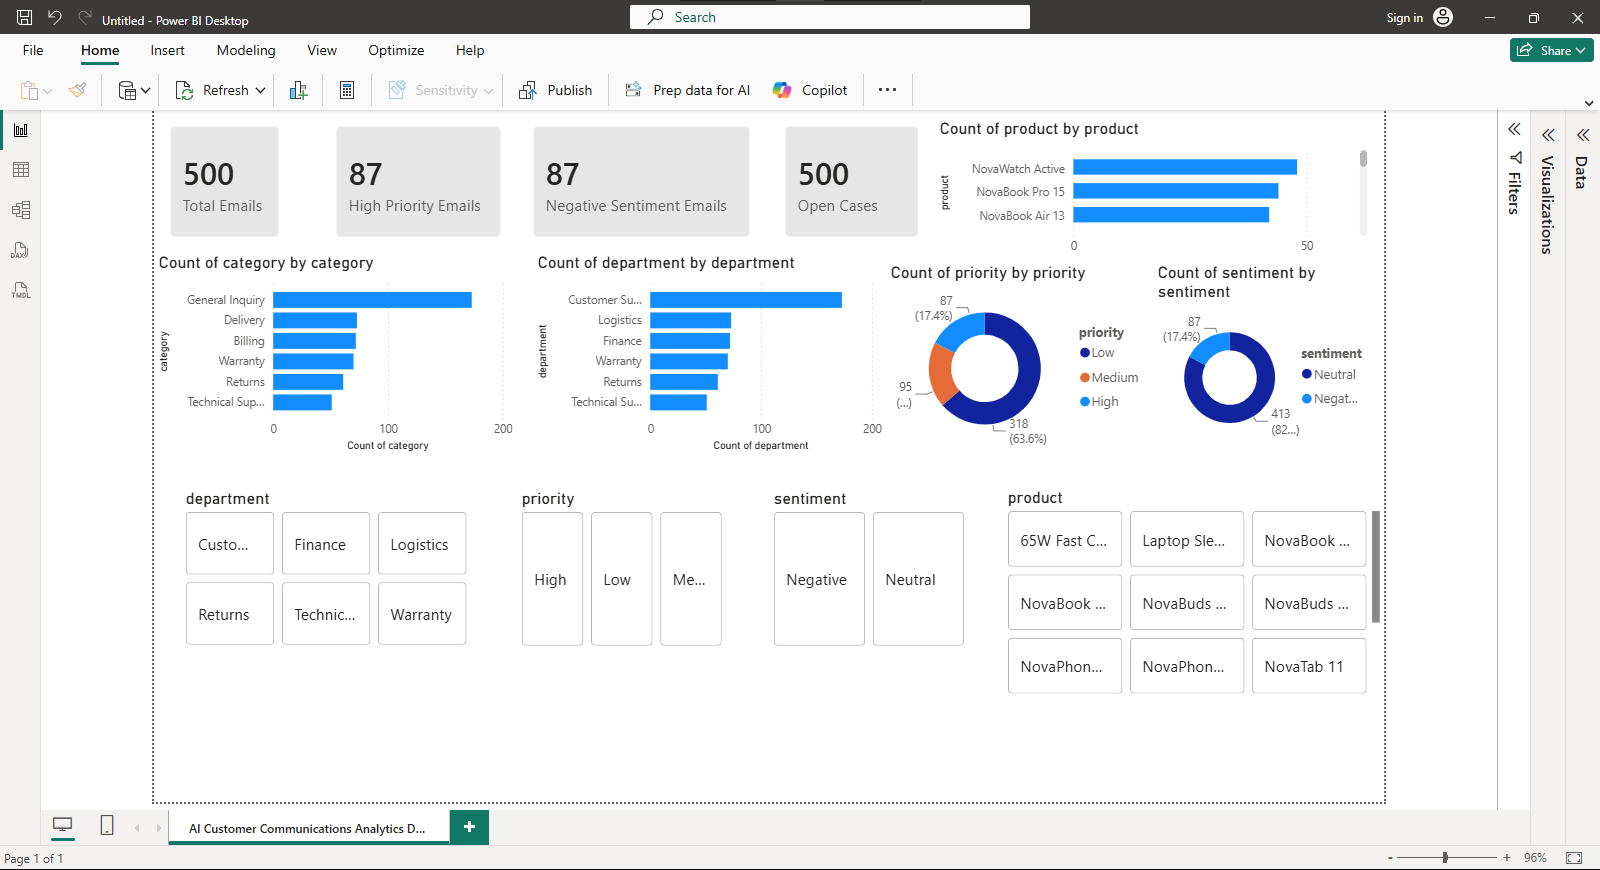

The dashboard page shown, as its layout file describes it:
{"tool":"powerbi","page":{"name":"AI Customer Communications Analytics Dashboard","canvas":[1280,720],"ordinal":0},"visuals":[{"type":"cardVisual","fields":{"Data":["customer_emails.Negative Sentiment Emails"]},"box":[377.8,0,259.6,149.1],"z":0},{"type":"cardVisual","fields":{"Data":["customer_emails.Total Emails"]},"box":[0,0,147.8,149.1],"z":1000},{"type":"cardVisual","fields":{"Data":["customer_emails.High Priority Emails"]},"box":[172.2,0,205.6,149.1],"z":2000},{"type":"cardVisual","fields":{"Data":["customer_emails.Open Cases"]},"box":[640,0,172.2,149.1],"z":3000},{"type":"clusteredBarChart","fields":{"Category":["customer_emails.department"],"Y":["CountNonNull(customer_emails.department)"]},"box":[394.5,149.1,367.6,210.8],"z":4000},{"type":"clusteredBarChart","fields":{"Category":["customer_emails.category"],"Y":["CountNonNull(customer_emails.category)"]},"box":[0,149.1,377.8,210.8],"z":5000},{"type":"clusteredBarChart","fields":{"Category":["customer_emails.product"],"Y":["CountNonNull(customer_emails.product)"]},"box":[812.2,9,454.9,150.4],"z":6000},{"type":"donutChart","fields":{"Category":["customer_emails.priority"],"Y":["CountNonNull(customer_emails.priority)"]},"box":[762.1,159.4,277.6,200.5],"z":7000},{"type":"donutChart","fields":{"Category":["customer_emails.sentiment"],"Y":["CountNonNull(customer_emails.sentiment)"]},"box":[1039.7,159.4,240.3,200.5],"z":8000},{"type":"advancedSlicerVisual","fields":{"Values":["customer_emails.department"]},"box":[28.3,394.5,304.6,168.4],"z":9000},{"type":"advancedSlicerVisual","fields":{"Values":["customer_emails.priority"]},"box":[377.8,394.5,218.5,168.4],"z":10000},{"type":"advancedSlicerVisual","fields":{"Values":["customer_emails.sentiment"]},"box":[640,394.5,209.5,168.4],"z":11000},{"type":"advancedSlicerVisual","fields":{"Values":["customer_emails.product"]},"box":[882.9,393.3,397.1,221],"z":12000}]}

Visuals, with their boxes on the page's 1280x720 design canvas (x1, y1, x2, y2). These are canvas units, not pixel positions in the 1600x870 screenshot, which may show the page scaled, cropped or inside an application window:
cardVisual - customer_emails.Negative Sentiment Emails: region(378, 0, 637, 149)
cardVisual - customer_emails.Total Emails: region(0, 0, 148, 149)
cardVisual - customer_emails.High Priority Emails: region(172, 0, 378, 149)
cardVisual - customer_emails.Open Cases: region(640, 0, 812, 149)
clusteredBarChart - customer_emails.department x CountNonNull(customer_emails.department): region(394, 149, 762, 360)
clusteredBarChart - customer_emails.category x CountNonNull(customer_emails.category): region(0, 149, 378, 360)
clusteredBarChart - customer_emails.product x CountNonNull(customer_emails.product): region(812, 9, 1267, 159)
donutChart - customer_emails.priority x CountNonNull(customer_emails.priority): region(762, 159, 1040, 360)
donutChart - customer_emails.sentiment x CountNonNull(customer_emails.sentiment): region(1040, 159, 1280, 360)
advancedSlicerVisual - customer_emails.department: region(28, 394, 333, 563)
advancedSlicerVisual - customer_emails.priority: region(378, 394, 596, 563)
advancedSlicerVisual - customer_emails.sentiment: region(640, 394, 850, 563)
advancedSlicerVisual - customer_emails.product: region(883, 393, 1280, 614)
